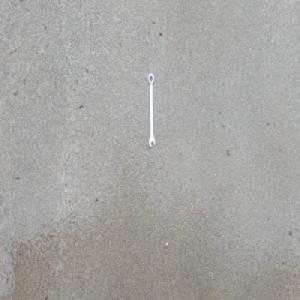Wrench: (147, 71, 156, 148)
